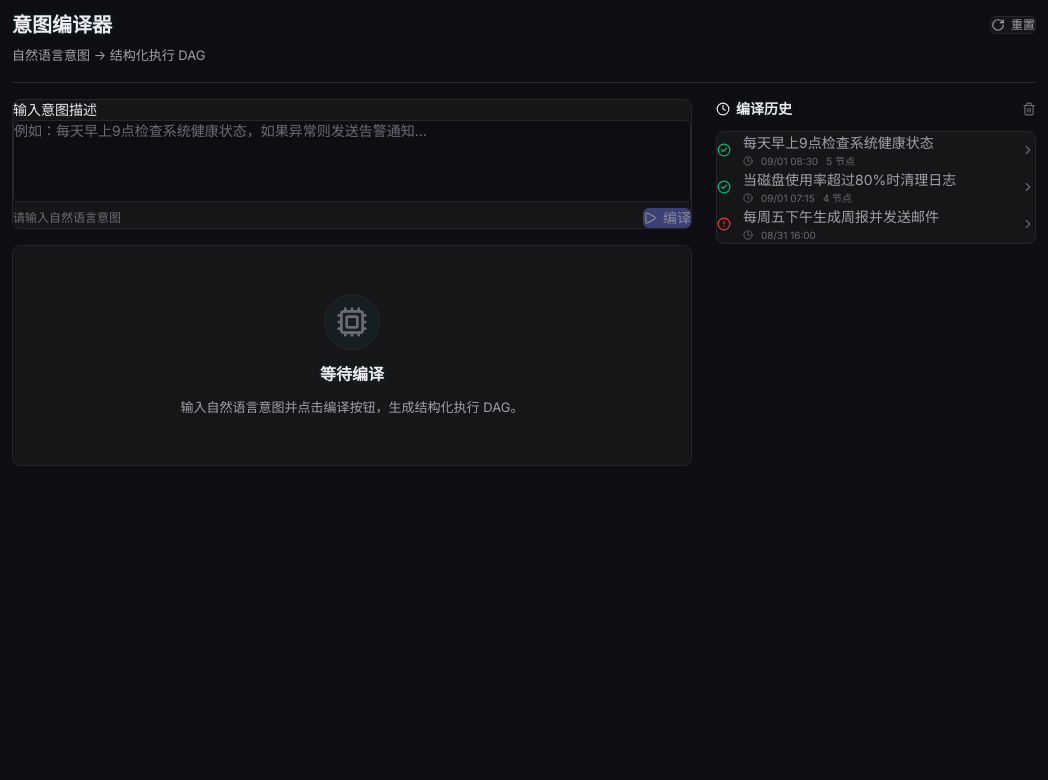
Test: IntentCompiler › state changes › clears previous result when reset is clicked after compilation
This screenshot has width=1048, height=780.
Compile first
Type "测试意图" into the text box with test id "intent-input". click: (352, 160)
box: [13,120,691,202]
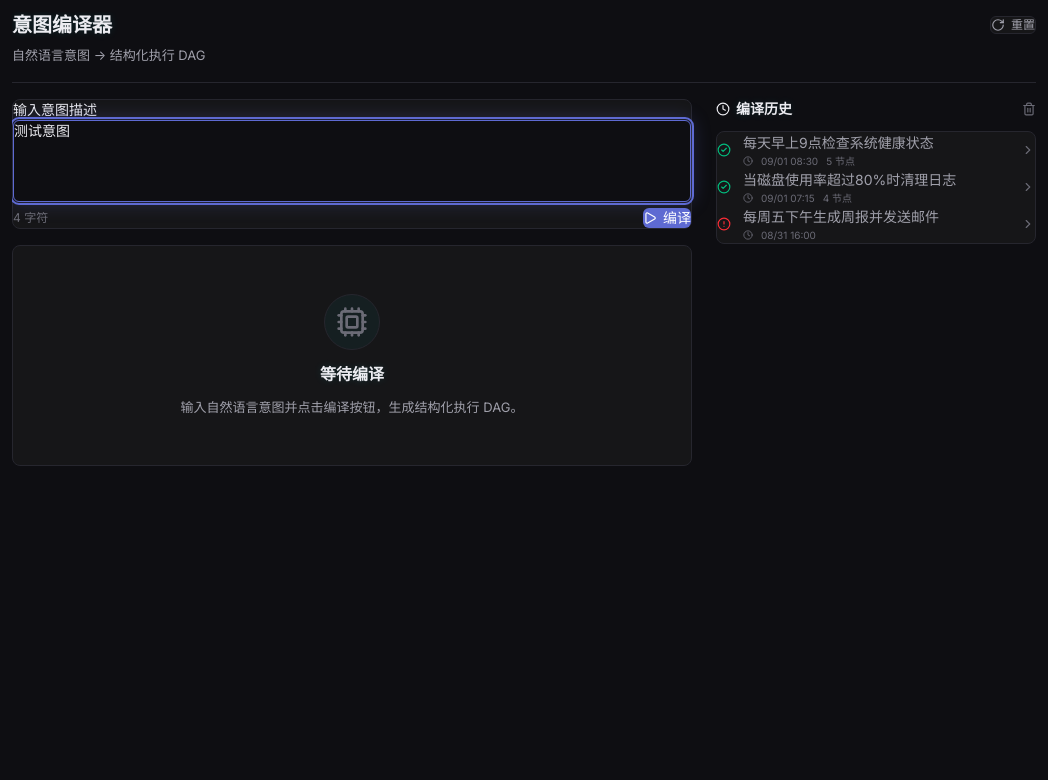
Click the button with test id "compile-btn". click: click(667, 218)
box: [643,208,691,228]
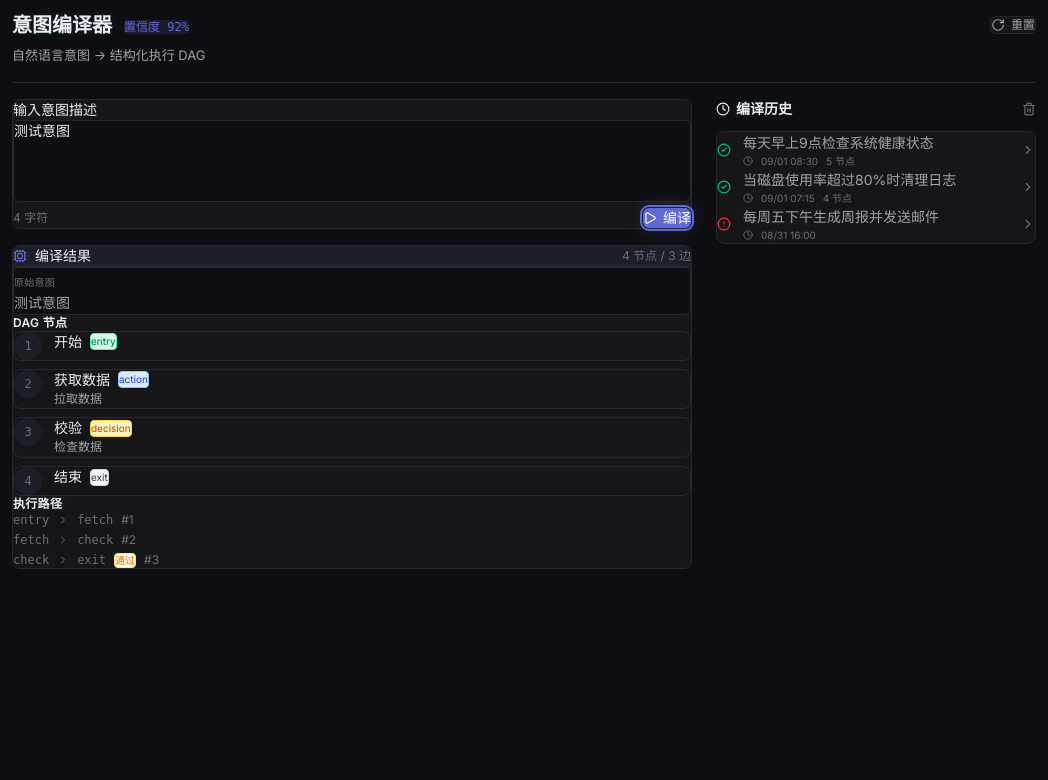
Expected: the text "编译结果" is shown, [35,246,91,266]
Click the button with test id "reset-btn". click: click(1013, 25)
box: [990,16,1036,34]
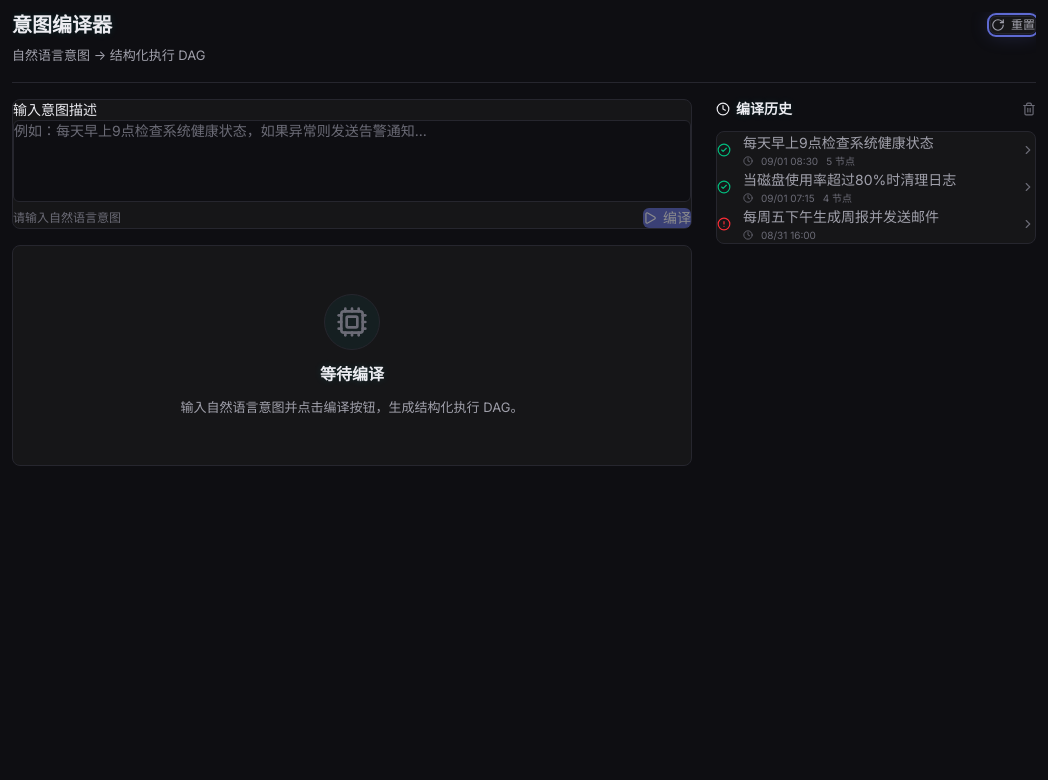
Expected: the heading "等待编译" is shown, [320,362,384,386]
Expected: the text "编译结果" is gone
